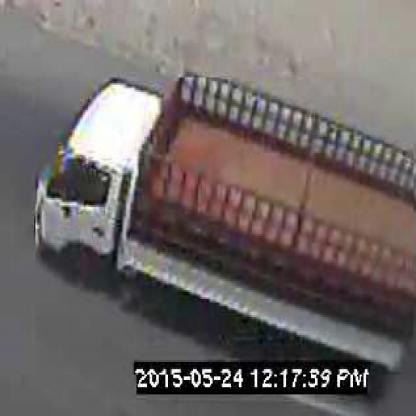truck: (36, 79, 416, 378)
